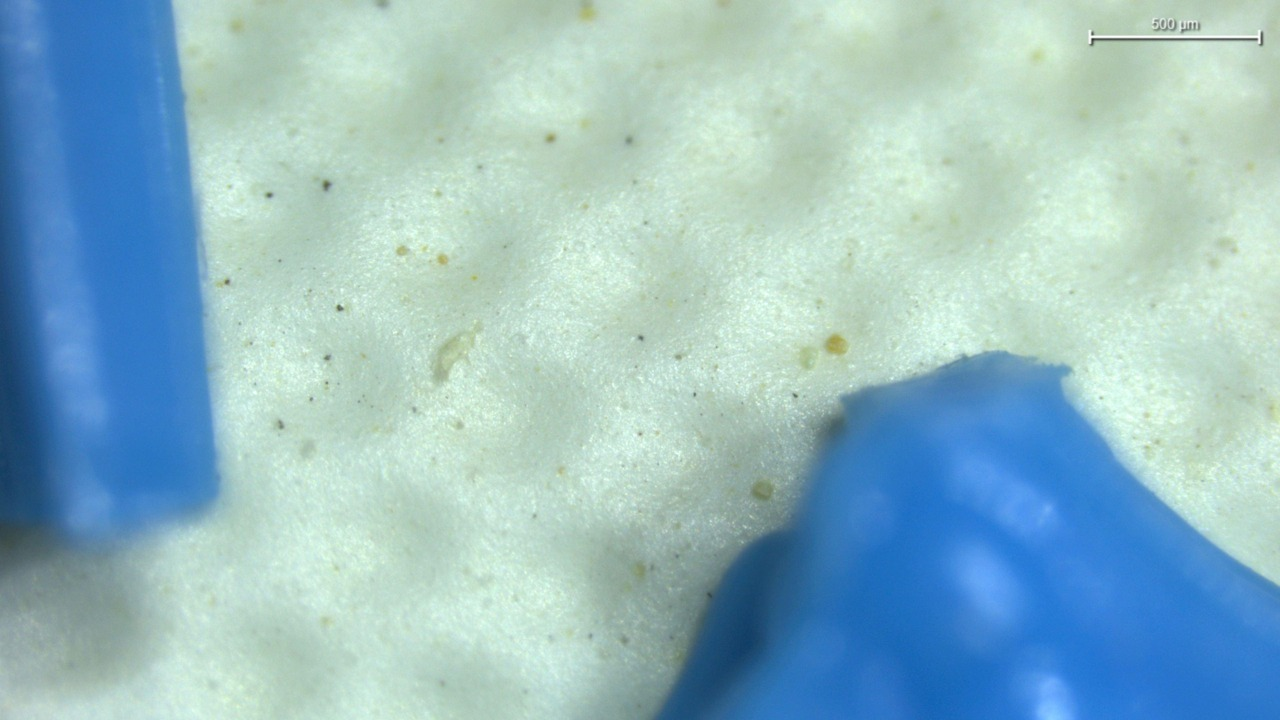microplastic_fragment: (432, 321, 482, 383)
